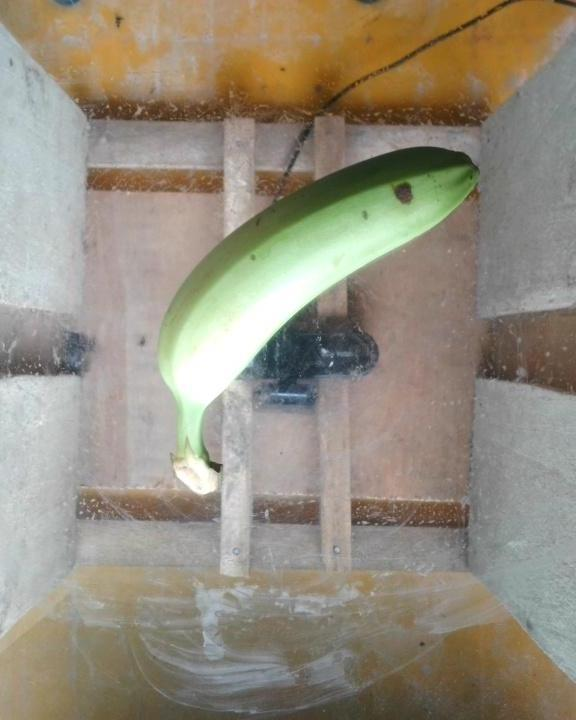CLASS B: (152, 138, 500, 516)
Class A: (380, 181, 441, 213)
